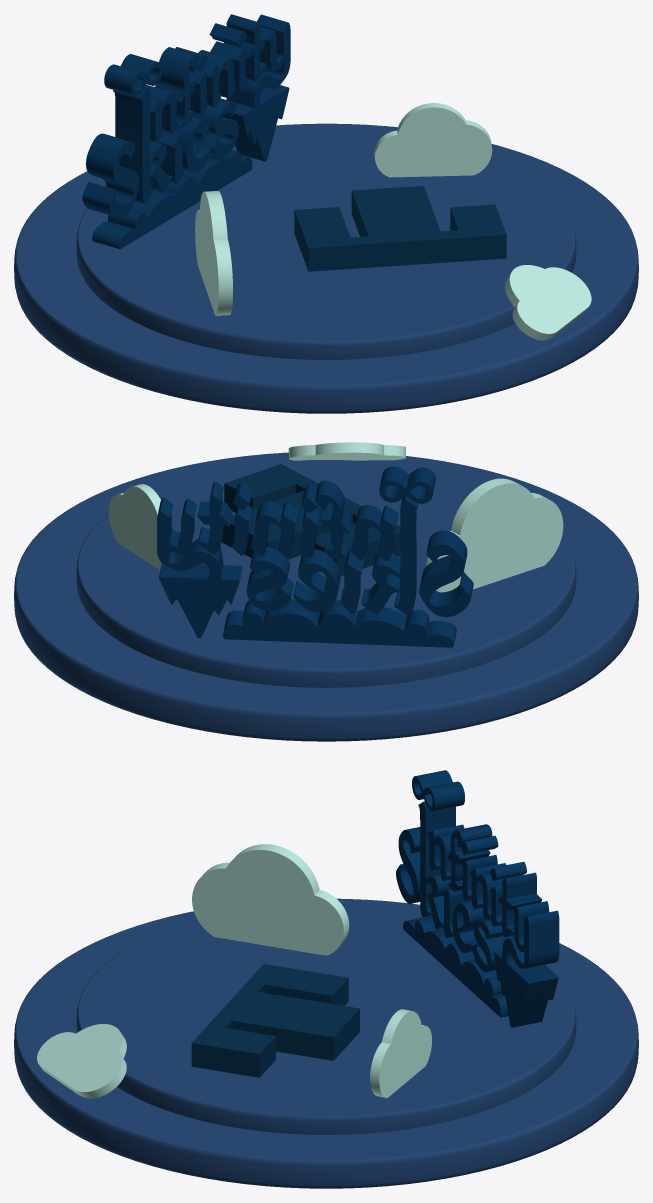
File: stn.gltf
3 renders of one model, top to bottom at view 1: azimuth 30°, elevation 25°; view 2: azimuth 150°, elevation 25°; view 3: azimuth 270°, elevation 25°, orthographic.
Parts seen in each view (by area): view 1: Cylinder.003, Curve.001, Curve.011, Curve.010; view 2: Cylinder.003, Curve.001, Curve.011, Curve.010; view 3: Cylinder.003, Curve.001, Curve.011, Curve.010.
Part boxes in pixels (box(x1,y1,x2,y2)): Cylinder.003: box(14, 123, 638, 413); Curve.001: box(82, 14, 290, 249); Curve.011: box(195, 103, 591, 340); Curve.010: box(294, 185, 506, 271); Cylinder.003: box(14, 452, 638, 741); Curve.001: box(157, 466, 473, 647); Curve.011: box(108, 442, 563, 592); Curve.010: box(222, 464, 400, 576); Cylinder.003: box(14, 898, 638, 1188); Curve.001: box(396, 770, 559, 1027); Curve.011: box(37, 844, 431, 1098); Curve.010: box(191, 964, 359, 1077).
Bounding box in the file's own units: 2.72 × 1.01 × 2.72.
